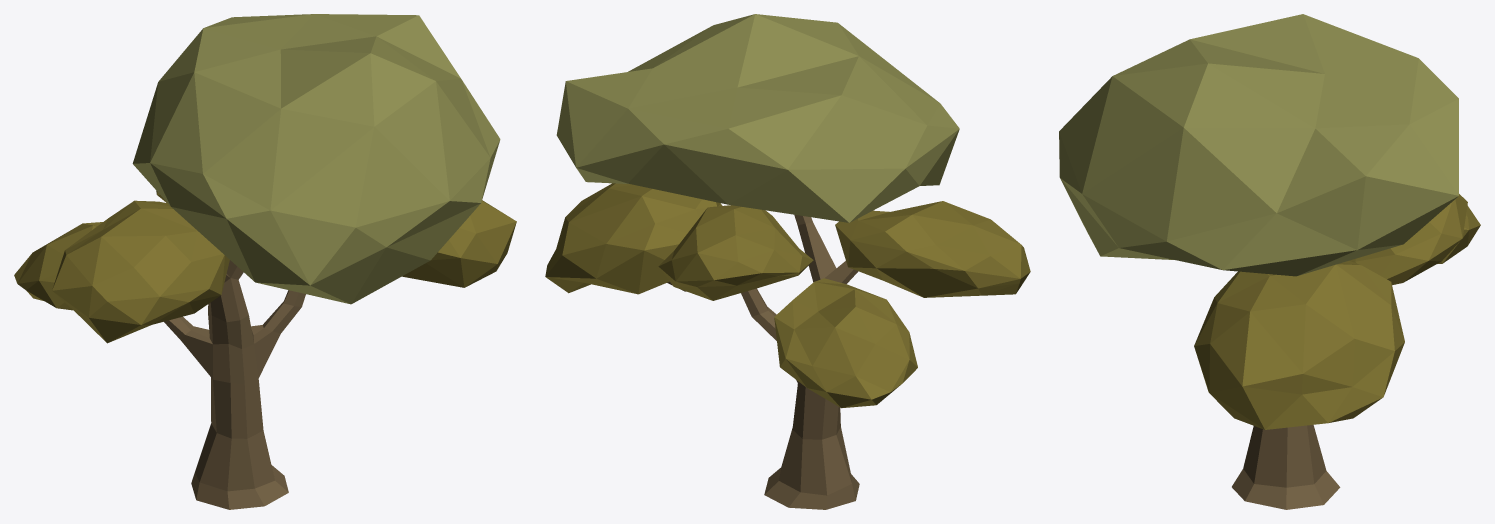
File: enchantedforest_tree_1.fbx
The picture shows the model from 3 angles, left to right: view 1: azimuth 30°, elevation 25°; view 2: azimuth 150°, elevation 25°; view 3: azimuth 270°, elevation 25°; orthographic projection. The views are drawn at different scales.
Parts seen in each view (by area): view 1: Icosphere.002; view 2: Icosphere.002; view 3: Icosphere.002.
Boxes of the visible parts, x1,y1,x2,y2 form: Icosphere.002: [14, 14, 516, 509]; Icosphere.002: [545, 14, 1030, 509]; Icosphere.002: [1059, 14, 1480, 509].
Size of the model in its own units: 1200 by 1099 by 884.
